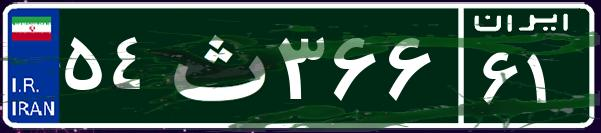1: (525, 38, 570, 115)
3: (273, 28, 330, 110)
4: (110, 28, 158, 105)
5: (57, 26, 110, 107)
6: (385, 28, 445, 110), (330, 28, 385, 110), (475, 38, 525, 113)
ث: (158, 15, 273, 115)
